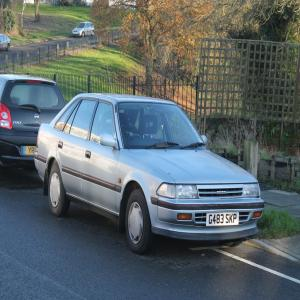Vehicle-registration-plate: (207, 214, 240, 227), (23, 147, 37, 157)
